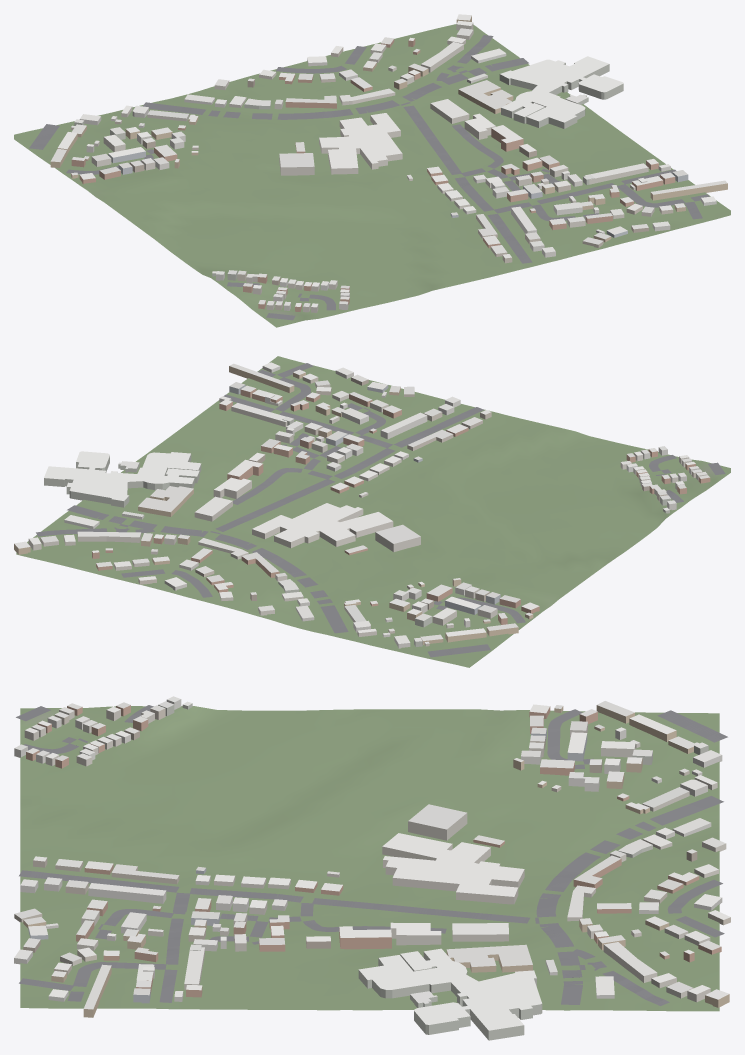
3 renders of one model, top to bottom at view 1: azimuth 30°, elevation 25°; view 2: azimuth 150°, elevation 25°; view 3: azimuth 270°, elevation 25°, orthographic. The views are drawn at different scales.
Visible parts, largest first — view 1: prim0, prim1, prim2; view 2: prim0, prim1, prim2; view 3: prim0, prim1, prim2.
Part boxes in pixels (box(x1,y1,x2,y2)): prim0: box(14, 24, 730, 327); prim1: box(50, 14, 727, 312); prim2: box(29, 35, 709, 320); prim0: box(16, 356, 730, 667); prim1: box(14, 362, 710, 648); prim2: box(36, 363, 725, 657); prim0: box(20, 706, 719, 1011); prim1: box(14, 696, 730, 1040); prim2: box(16, 705, 727, 1005).
Bounding box in the file's own units: 580 × 20.35 × 525.
